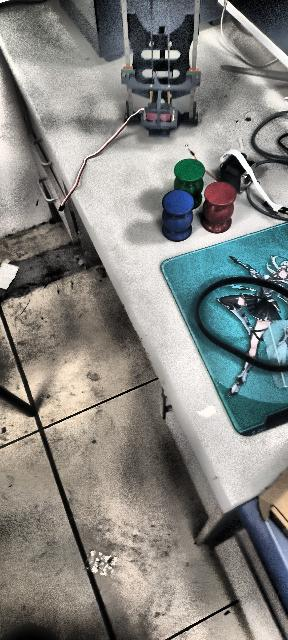blue: (162, 189, 194, 241)
green: (173, 159, 205, 209)
red: (202, 184, 237, 236)
